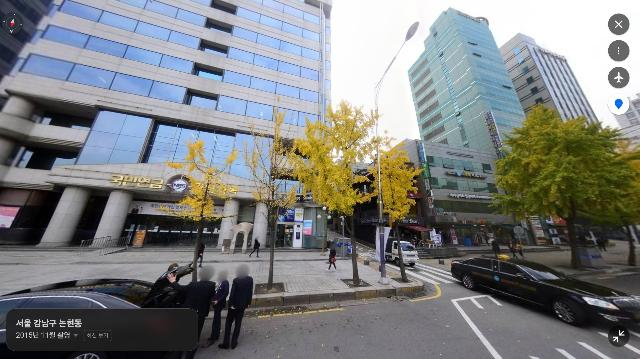ginkgo: (288, 98, 383, 287), (241, 95, 310, 293), (162, 139, 241, 283), (366, 130, 427, 284)
other: (491, 101, 640, 272), (611, 137, 640, 268)
